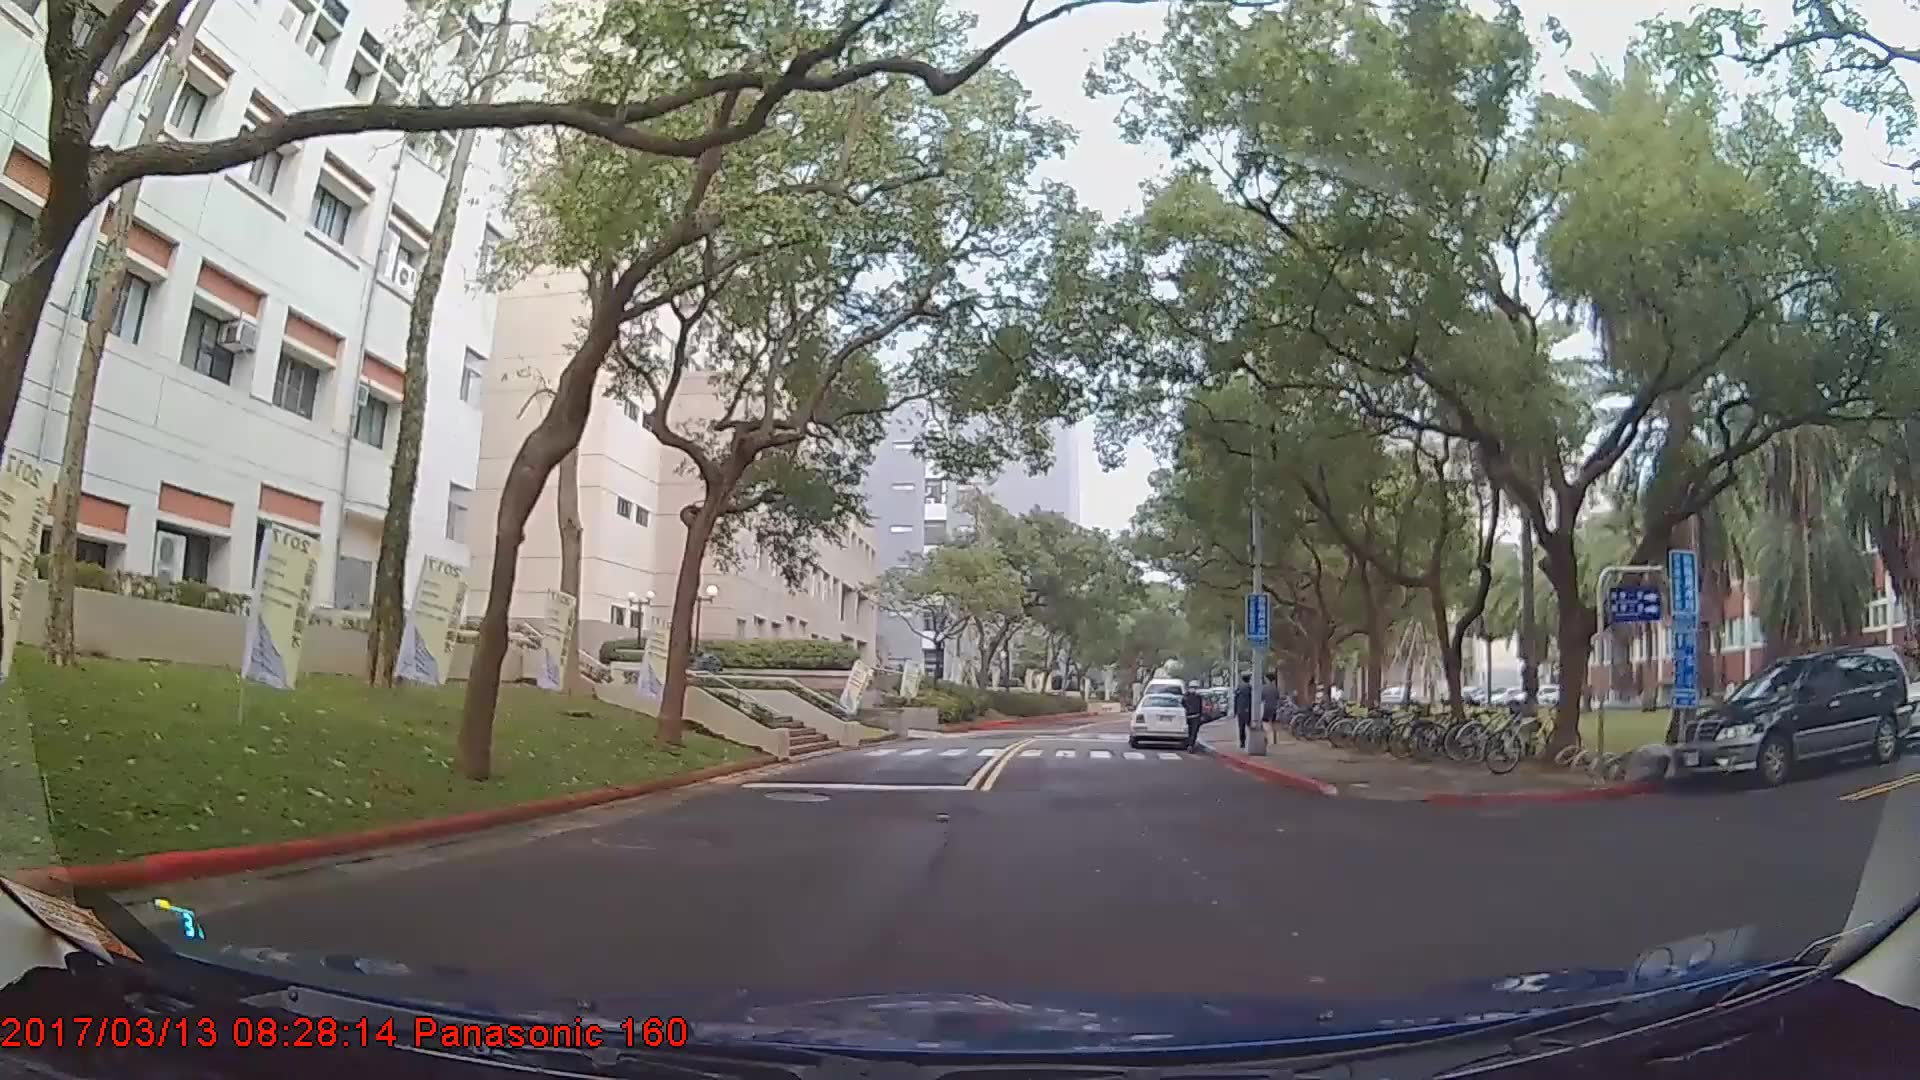pedestrian: (1235, 678, 1261, 751), (1180, 680, 1203, 754)
vehicle: (1668, 643, 1913, 788), (1126, 690, 1193, 747)
